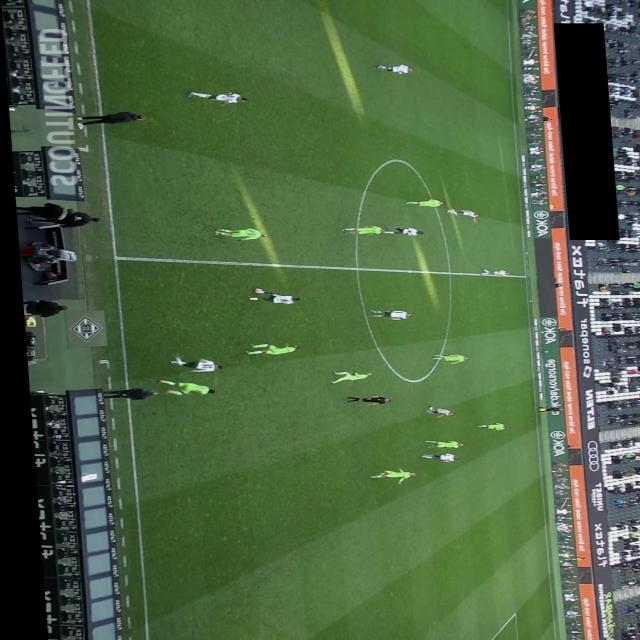player: (150, 379, 209, 395), (241, 289, 296, 305), (163, 357, 218, 373), (185, 92, 247, 106), (238, 342, 295, 356), (209, 228, 264, 242), (362, 468, 410, 484), (322, 370, 366, 384), (337, 225, 384, 235), (363, 310, 408, 320), (412, 452, 453, 462), (417, 440, 457, 450), (373, 64, 413, 74), (426, 354, 464, 364), (377, 227, 419, 236), (417, 406, 447, 418), (442, 210, 477, 220), (401, 199, 443, 207), (475, 268, 505, 276), (470, 422, 500, 430)
referee: (338, 396, 385, 406), (530, 406, 556, 412)
